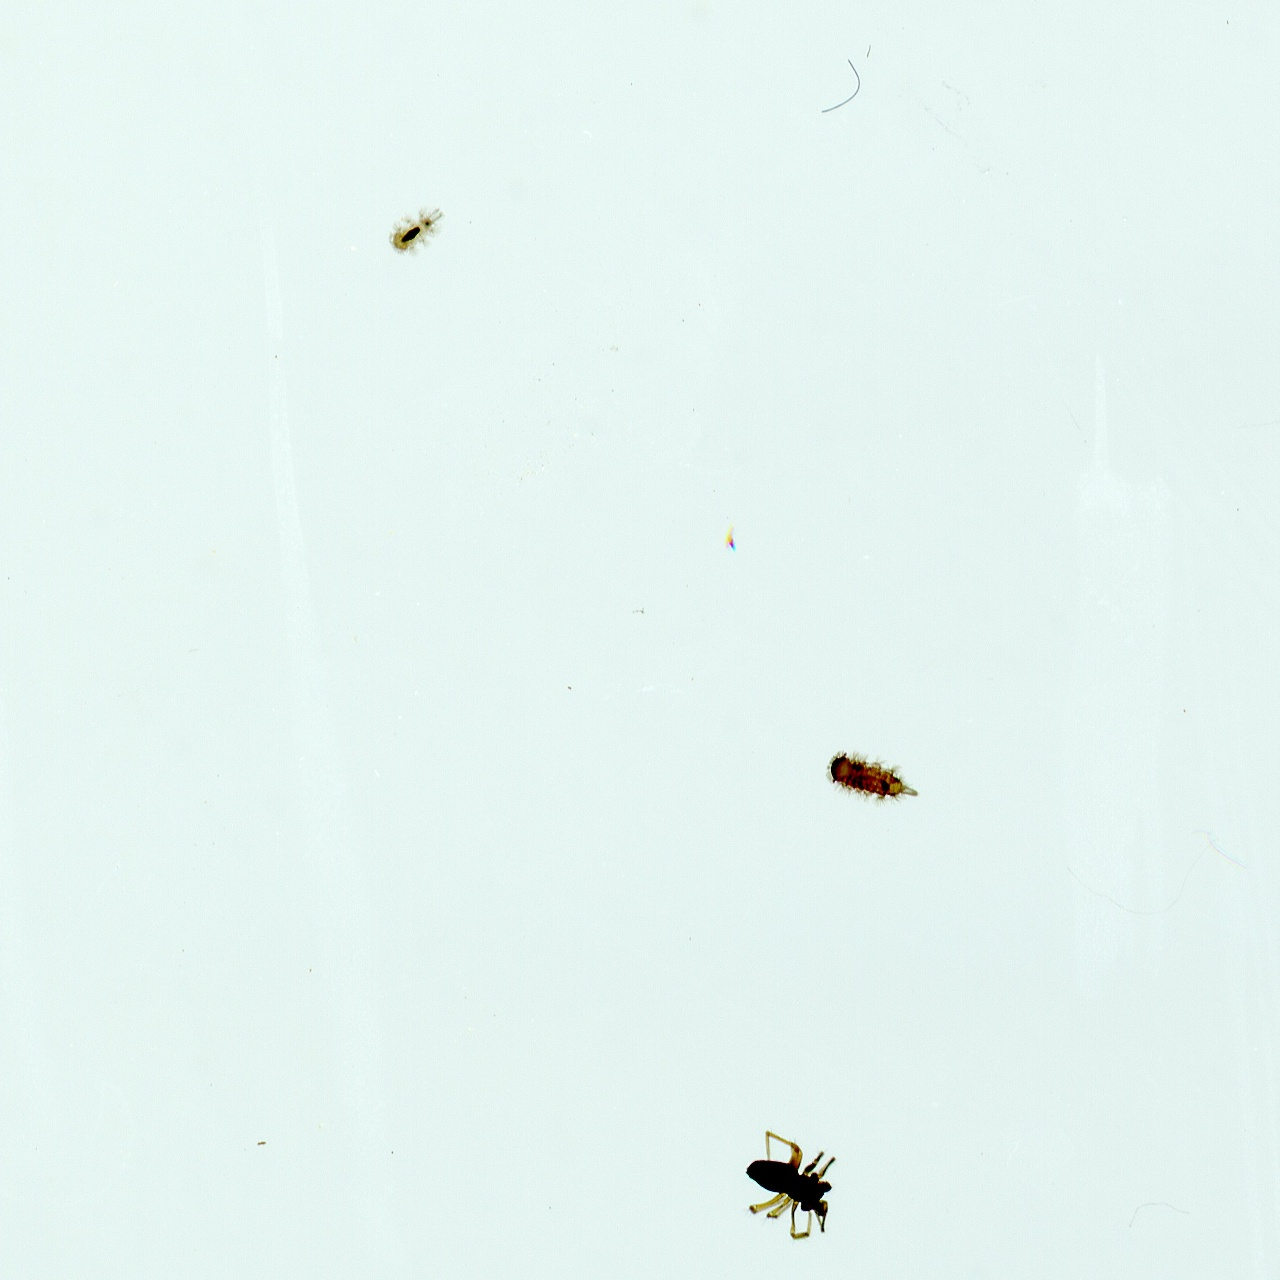arthropod: (738, 1130, 840, 1242), (826, 749, 920, 811), (386, 202, 445, 258)
